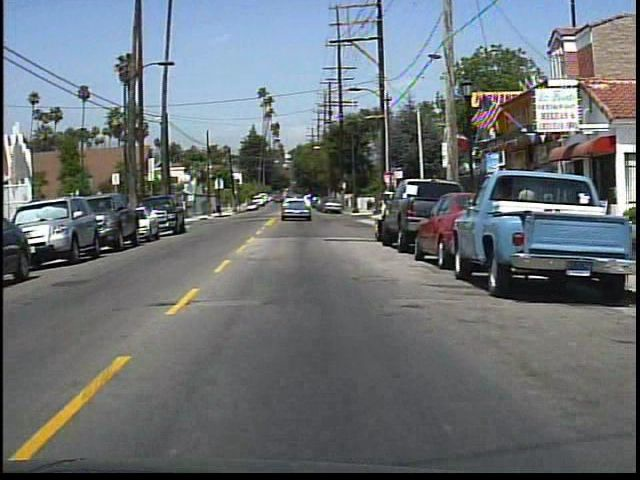person: (515, 179, 538, 234)
